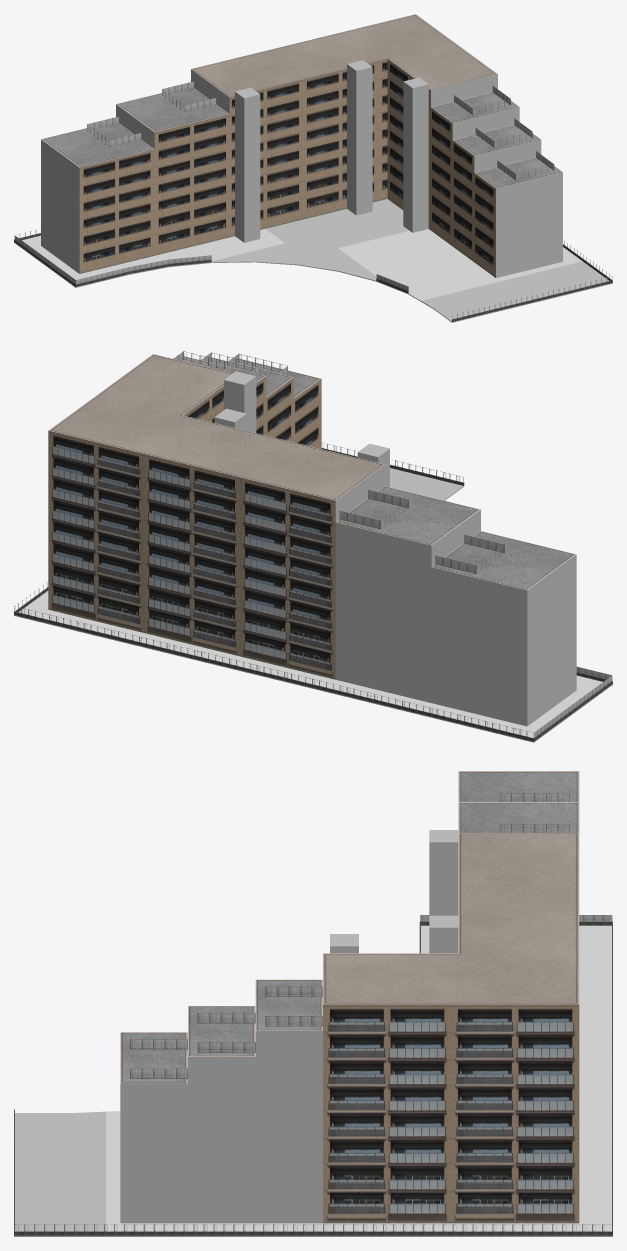
The model's file is Apartment_curve.fbx.
The picture shows the model from 3 angles, top to bottom: view 1: azimuth 30°, elevation 25°; view 2: azimuth 150°, elevation 25°; view 3: azimuth 270°, elevation 25°; orthographic projection. The views are drawn at different scales.
Visible parts, largest first — view 1: 100_apartment_curve, 001_ground, 004_ground_turf, 030_fence, 121_terrace_fence, 121_terrace_fence.001; view 2: 100_apartment_curve, 004_ground_turf, 030_fence, 001_ground, 121_terrace_fence, 121_terrace_fence.001; view 3: 100_apartment_curve, 004_ground_turf, 001_ground, 030_fence, 121_terrace_fence.002, 121_terrace_fence.003, 121_terrace_fence.004.
Boxes of the visible parts, box(x1,y1,x2,y2) form: 100_apartment_curve: box(41, 14, 562, 277); 001_ground: box(14, 199, 612, 322); 004_ground_turf: box(22, 229, 582, 300); 030_fence: box(14, 228, 612, 321); 121_terrace_fence: box(162, 81, 216, 111); 121_terrace_fence.001: box(87, 116, 141, 147); 100_apartment_curve: box(48, 354, 576, 726); 004_ground_turf: box(18, 591, 602, 737); 030_fence: box(14, 442, 612, 741); 001_ground: box(14, 468, 612, 742); 121_terrace_fence: box(339, 490, 408, 529); 121_terrace_fence.001: box(435, 535, 504, 573); 100_apartment_curve: box(120, 771, 579, 1223); 004_ground_turf: box(106, 925, 611, 1231); 001_ground: box(14, 1111, 612, 1236); 030_fence: box(14, 915, 612, 1235); 121_terrace_fence.002: box(265, 986, 322, 1026); 121_terrace_fence.003: box(197, 1013, 255, 1052); 121_terrace_fence.004: box(130, 1039, 187, 1078).
Size of the model in its own units: 76 by 25.95 by 62.
